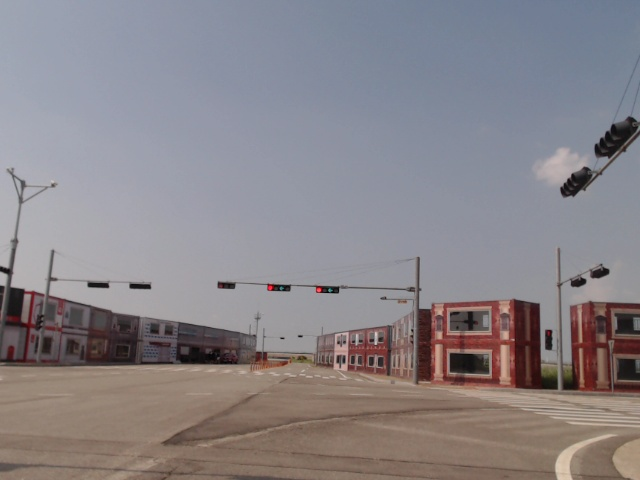left_green_4: (317, 286, 338, 293), (268, 285, 290, 291)
